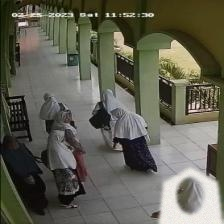Mukena: (158, 167, 223, 224)
